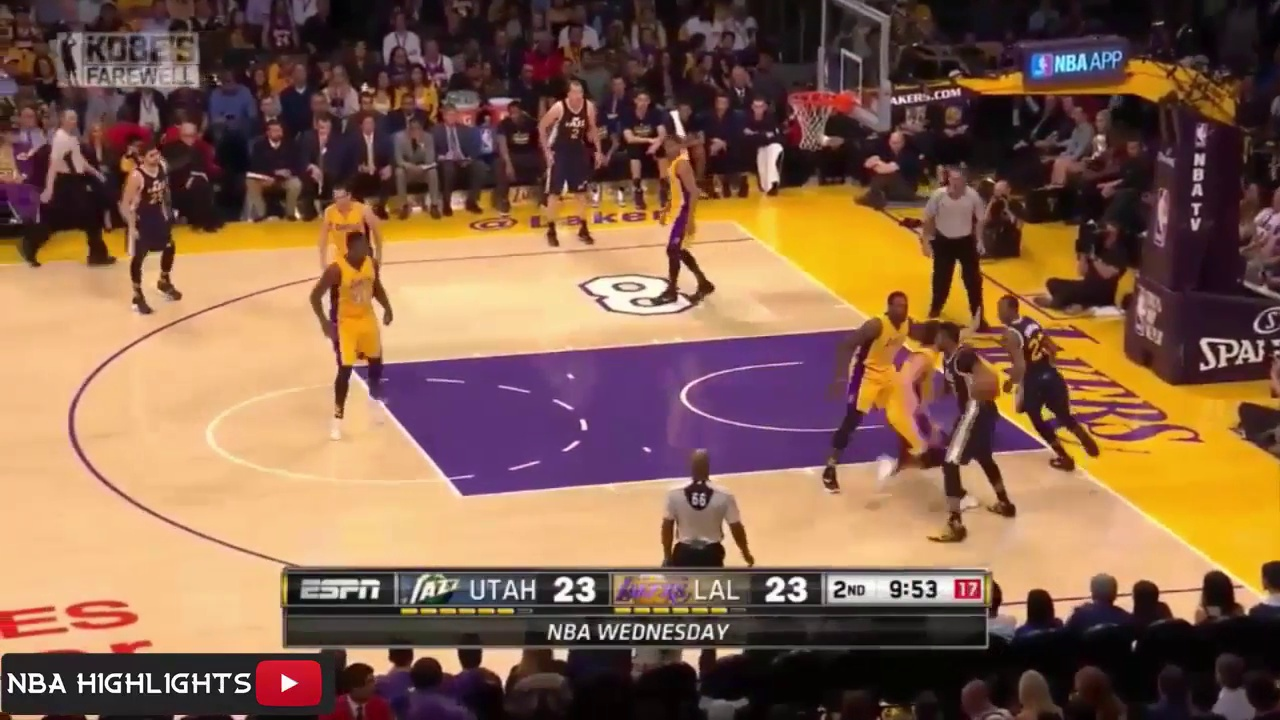jazz: (992, 295, 1098, 472), (925, 326, 1005, 541), (123, 140, 192, 316), (542, 87, 601, 246)
lakers: (826, 291, 917, 482), (870, 324, 952, 491), (326, 237, 387, 432), (654, 139, 719, 310), (316, 188, 384, 266)
